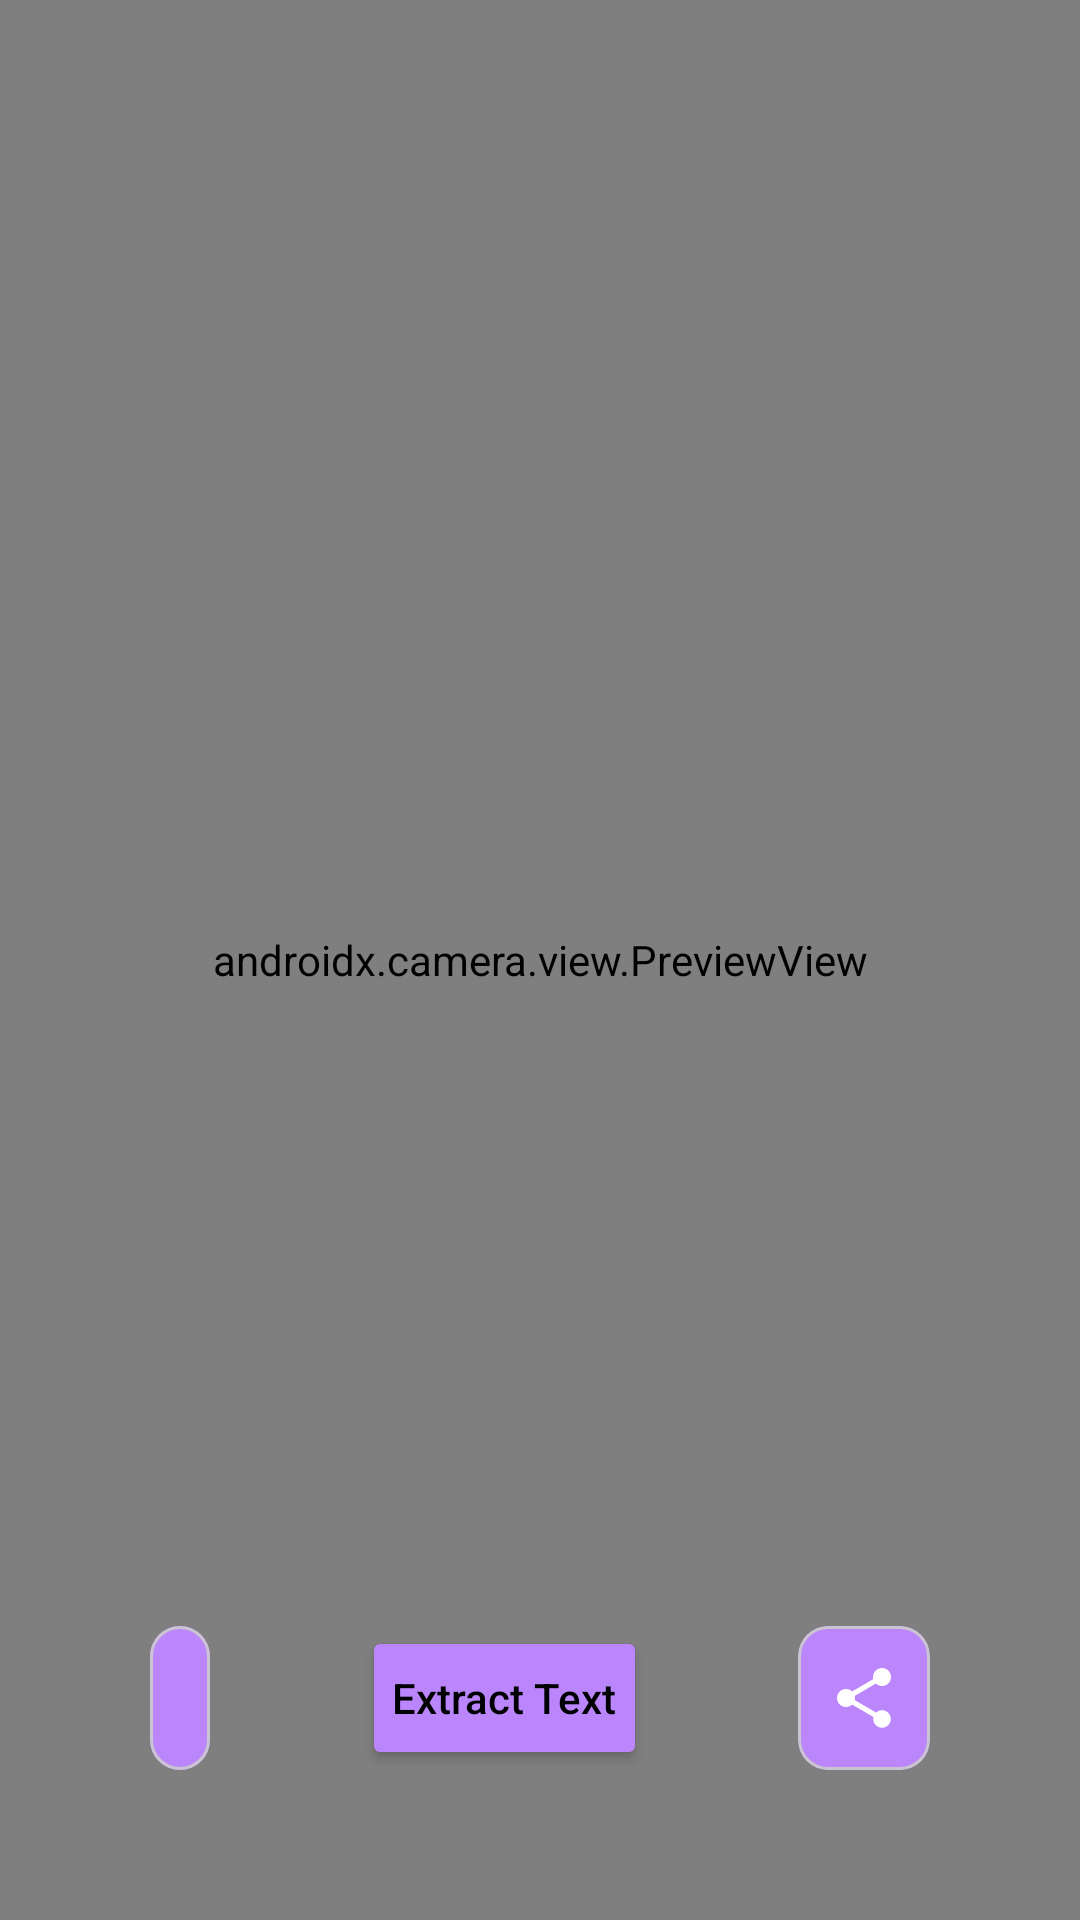

Icon click points for this 1080*1920 phone screenshot, format [x,y]:
Share Text: [864,1698]
